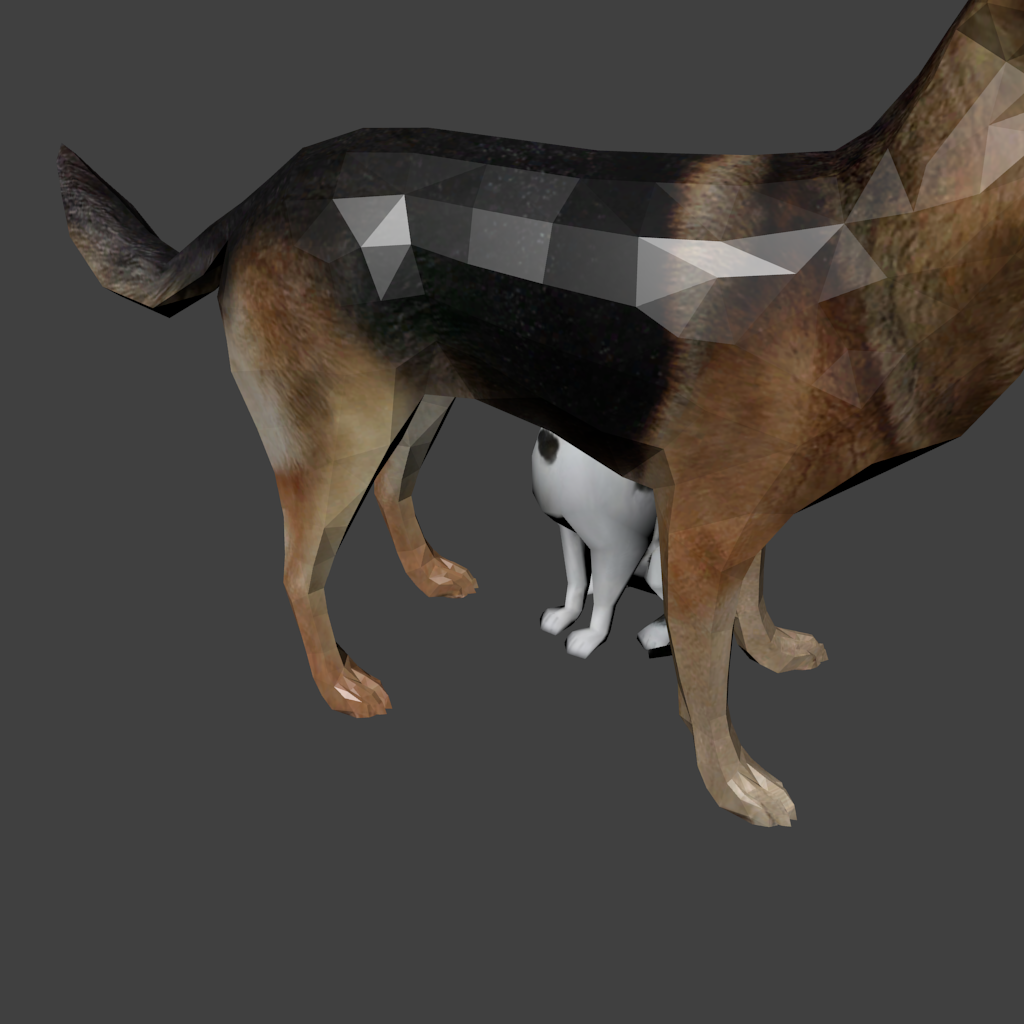Dog: (56, 0, 968, 827)
